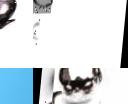ironball: (50, 68, 104, 103), (0, 0, 19, 29), (33, 0, 51, 13), (33, 16, 39, 46)
